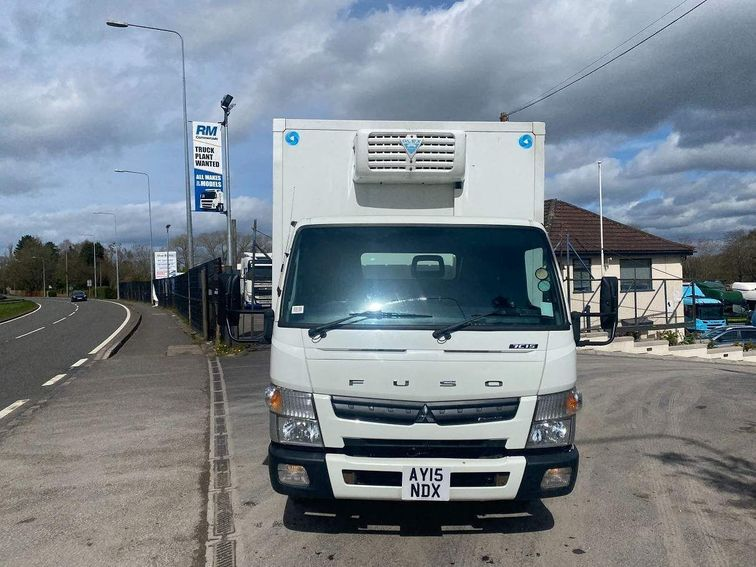Semi: (263, 117, 581, 506)
